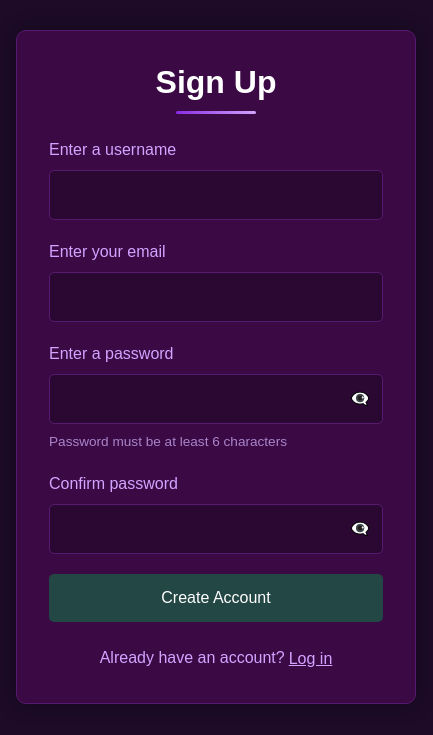
Test case: SignUpPage › shows error for invalid email format
In the field labelled "Enter your email": (216, 297) [49, 272, 383, 322], type "invalid-email"
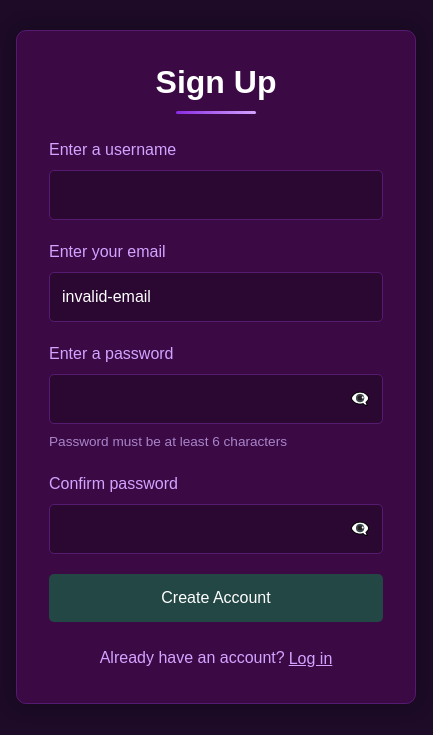
In the field labelled "Enter a username": (216, 195) [49, 170, 383, 220], type "testuser"
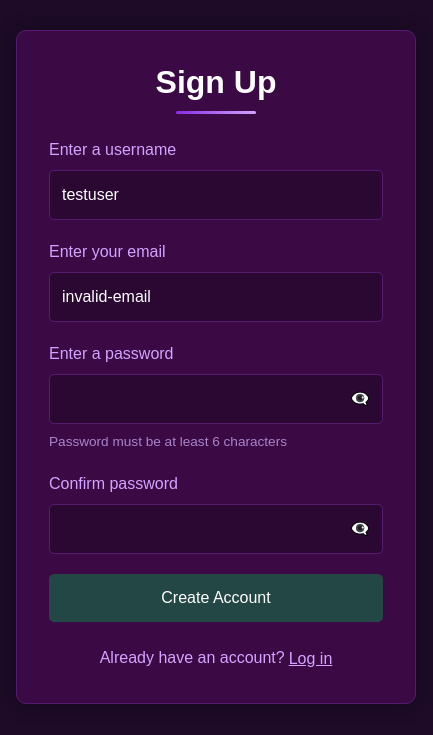
Click the button "Create Account": (216, 598) [49, 574, 383, 622]
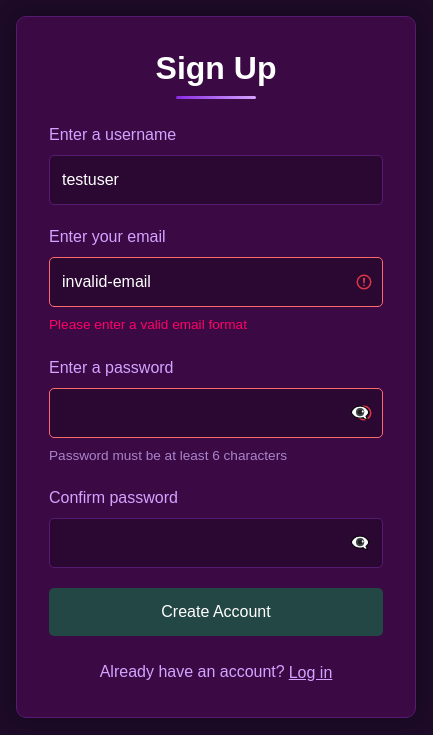
Now the text "Please enter a valid email format" is shown, box [49, 317, 247, 332]
